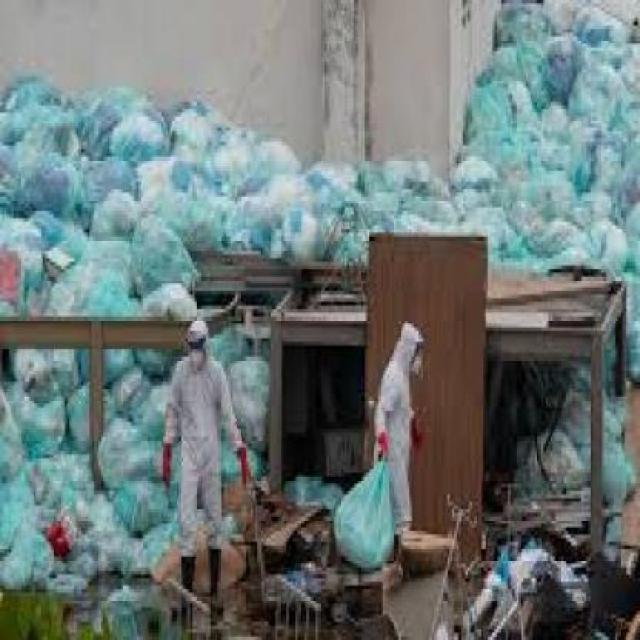garbage: (3, 80, 638, 302), (139, 517, 638, 637), (0, 352, 170, 596), (488, 0, 638, 262), (506, 349, 638, 524)
